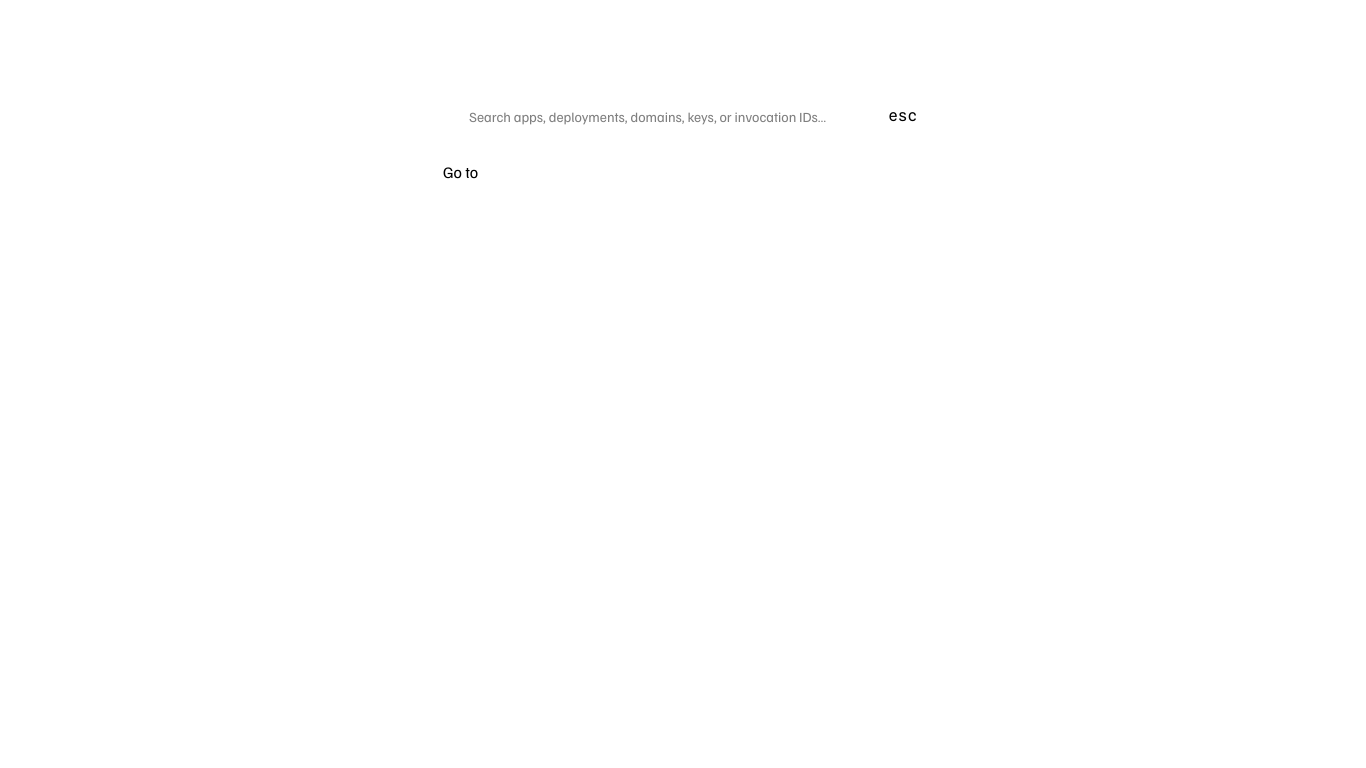
Test: palette resource results › keeps resource types grouped while searching
In the dropdown: (671, 116) [469,92,872,140], type "api"
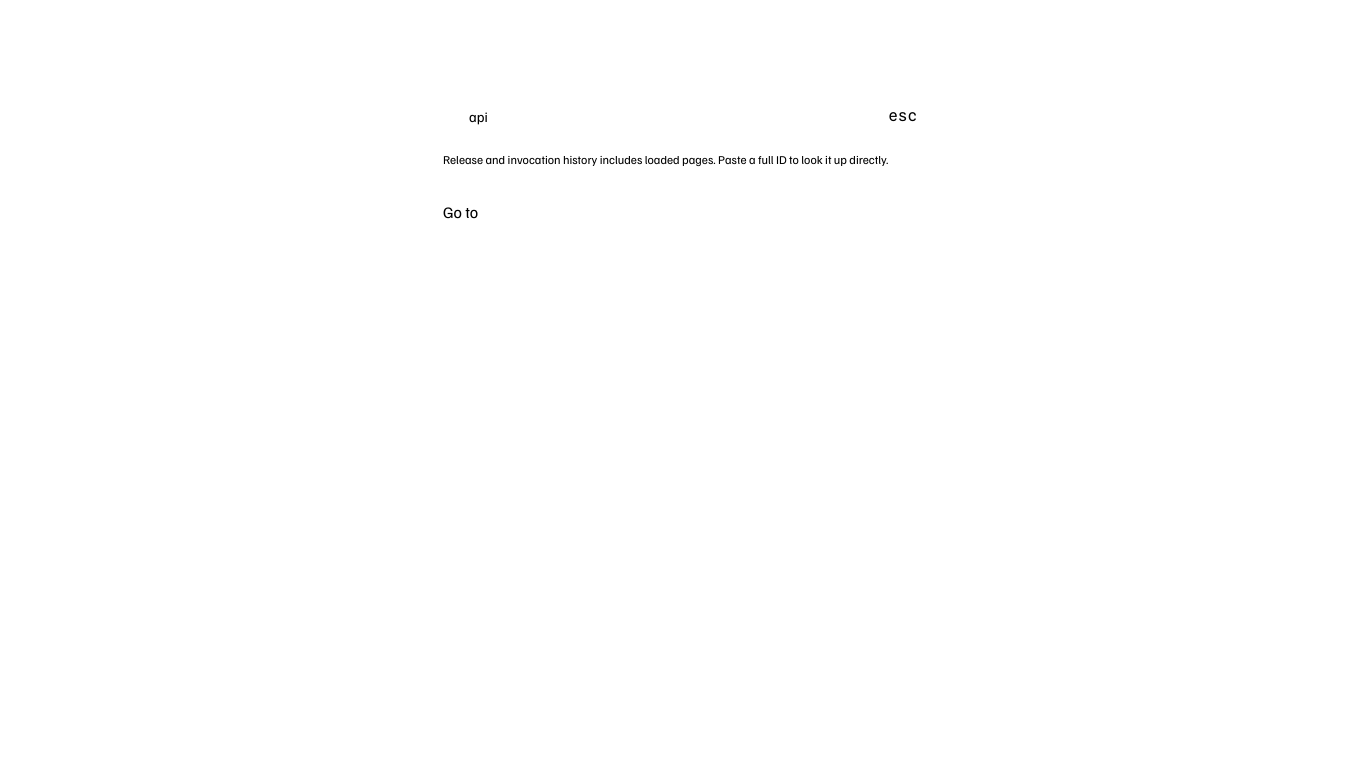
Expected: the text "includes loaded pages" is shown, [443,152,888,167]
